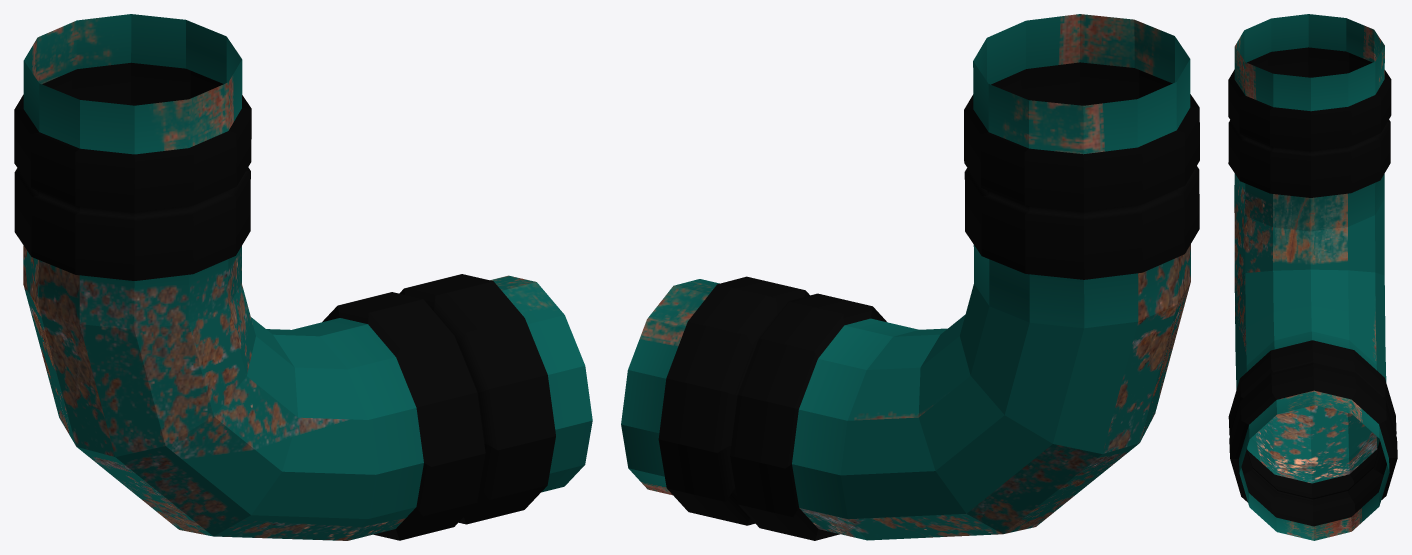
File: pipe2.fbx
3 views of the same model, side by side, from view 1: azimuth 30°, elevation 25°; view 2: azimuth 150°, elevation 25°; view 3: azimuth 270°, elevation 25° (orthographic). The views are drawn at different scales.
Parts seen in each view (by area): view 1: Corner_Pipe; view 2: Corner_Pipe; view 3: Corner_Pipe.
Boxes of the visible parts, bbox=[...] form: Corner_Pipe: bbox=[14, 14, 592, 540]; Corner_Pipe: bbox=[621, 14, 1199, 540]; Corner_Pipe: bbox=[1228, 14, 1397, 540].
Bounding box in the file's own units: 8.54 × 8.52 × 3.57.
1 material, 1 textured.
